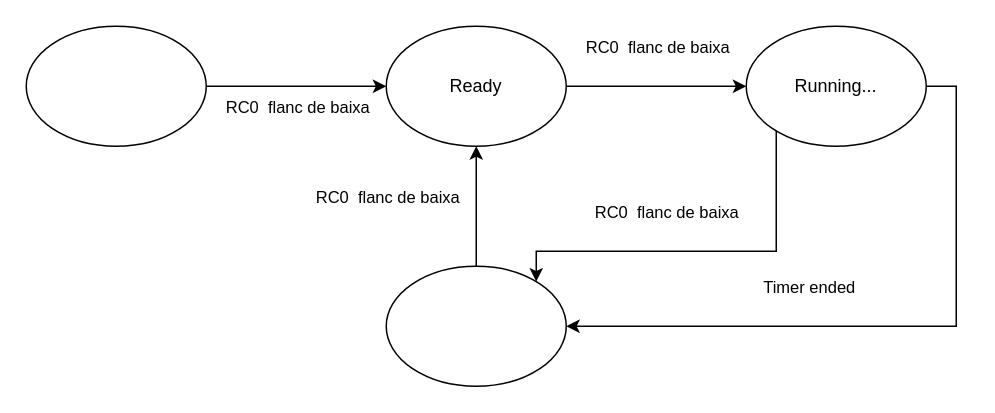
This 995x413 diagram has some shape labels left out. Here are the shapes that lost their labels. From the top down, the centre of each, then its label:
(115,85): Intro
(475,325): Stopped
